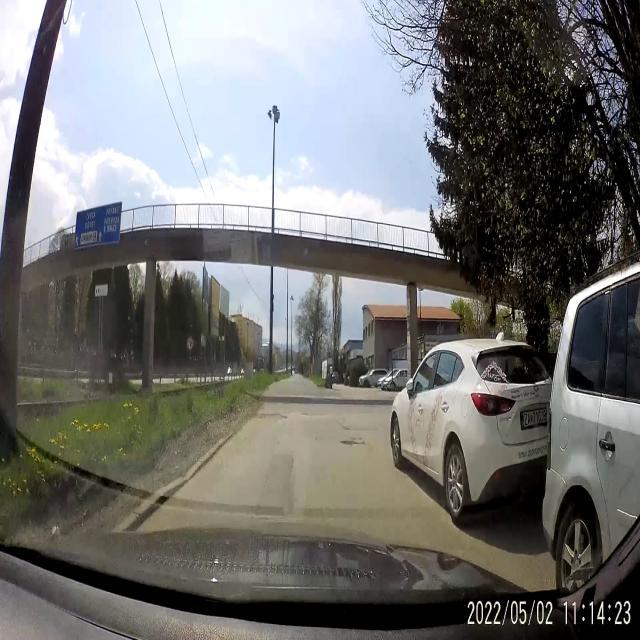Pothole: (339, 434, 366, 451), (257, 412, 289, 424), (341, 424, 350, 432)
